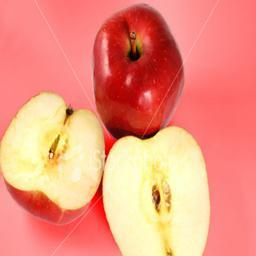apple: (0, 97, 104, 227), (106, 130, 213, 256), (91, 2, 185, 138)
